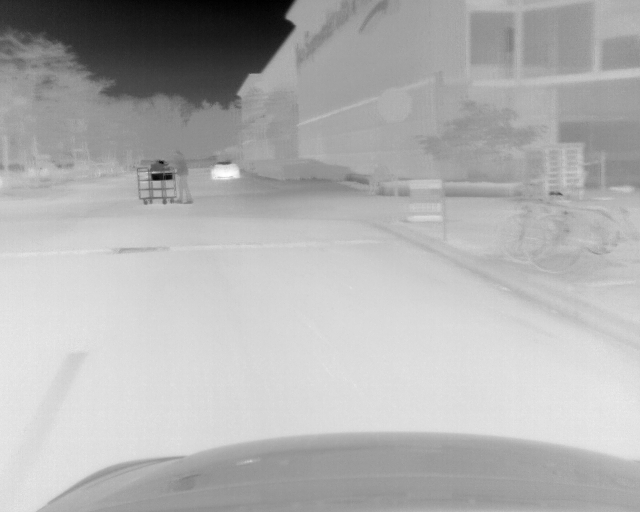bike: (499, 195, 636, 262), (523, 193, 640, 270)
car: (207, 159, 241, 181), (135, 156, 157, 177)
people: (170, 147, 194, 207)
